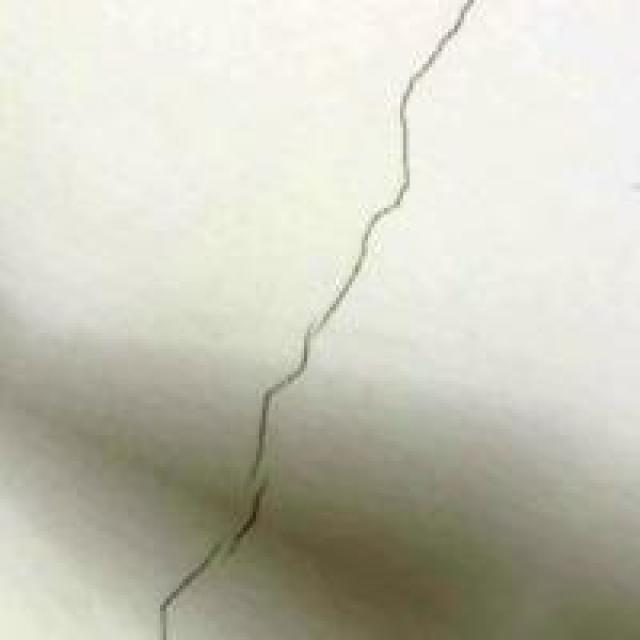crack: (116, 0, 487, 637)
